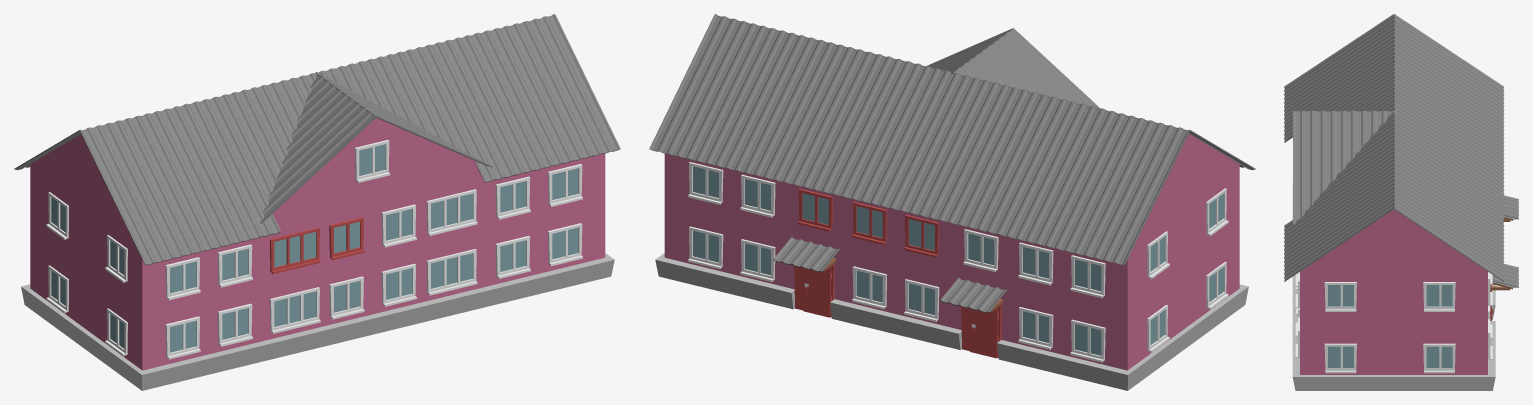
File: House (2).fbx
3 views of the same model, side by side, from view 1: azimuth 30°, elevation 25°; view 2: azimuth 150°, elevation 25°; view 3: azimuth 270°, elevation 25° (orthographic). The views are drawn at different scales.
Visible parts, largest first — view 1: House (2); view 2: House (2); view 3: House (2).
Part boxes in pixels (<box>): House (2): <box>14,14,620,390</box>; House (2): <box>649,14,1255,390</box>; House (2): <box>1284,14,1518,390</box>.
Size of the model in its own units: 5327 by 2344 by 2717.
